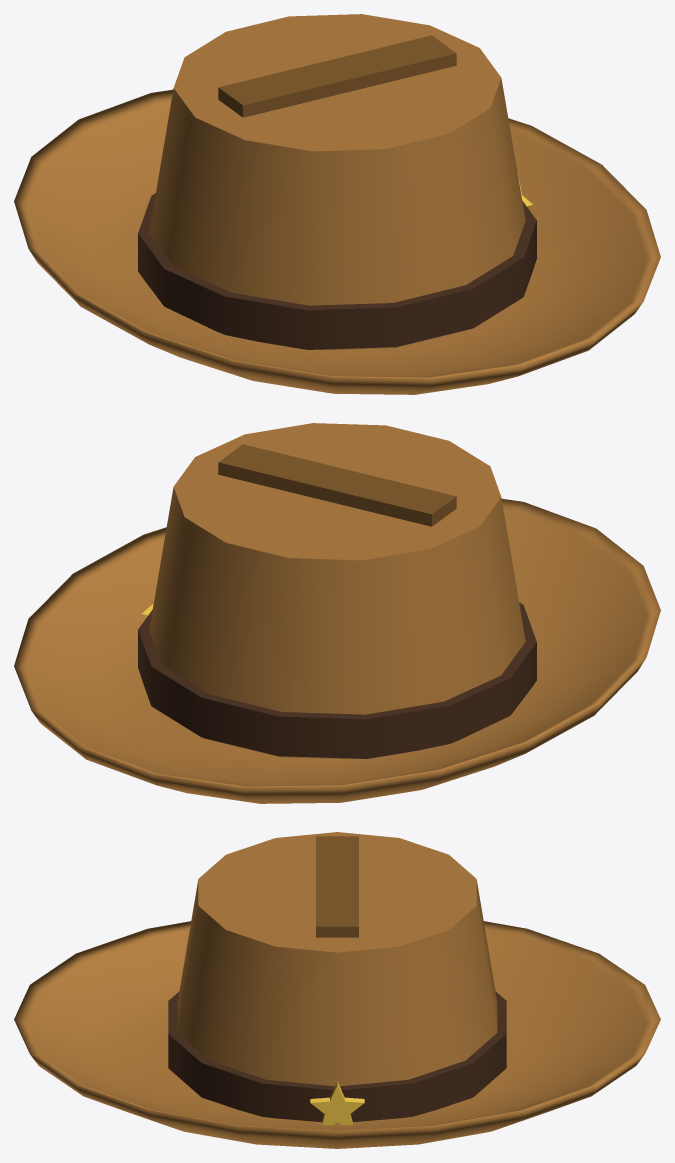
The model's file is hat_cowboy.glb.
3 renders of one model, top to bottom at view 1: azimuth 30°, elevation 25°; view 2: azimuth 150°, elevation 25°; view 3: azimuth 270°, elevation 25°, orthographic. The views are drawn at different scales.
Visible parts, largest first — view 1: Hat; view 2: Hat; view 3: Hat.
Part boxes in pixels (left/top/right/bottom): Hat: left=14, top=14, right=660, bottom=394; Hat: left=14, top=423, right=660, bottom=803; Hat: left=14, top=832, right=660, bottom=1148.
Bounding box in the file's own units: 0.6691 × 0.258 × 0.816.
